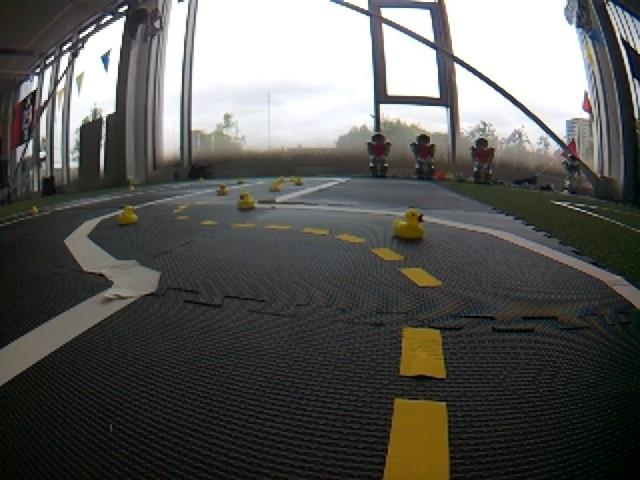Duckies: (392, 211, 426, 238), (119, 207, 139, 224), (237, 195, 257, 209), (269, 182, 282, 190), (218, 185, 231, 193), (28, 206, 38, 213), (295, 179, 306, 184), (199, 179, 205, 183), (129, 186, 134, 190)
